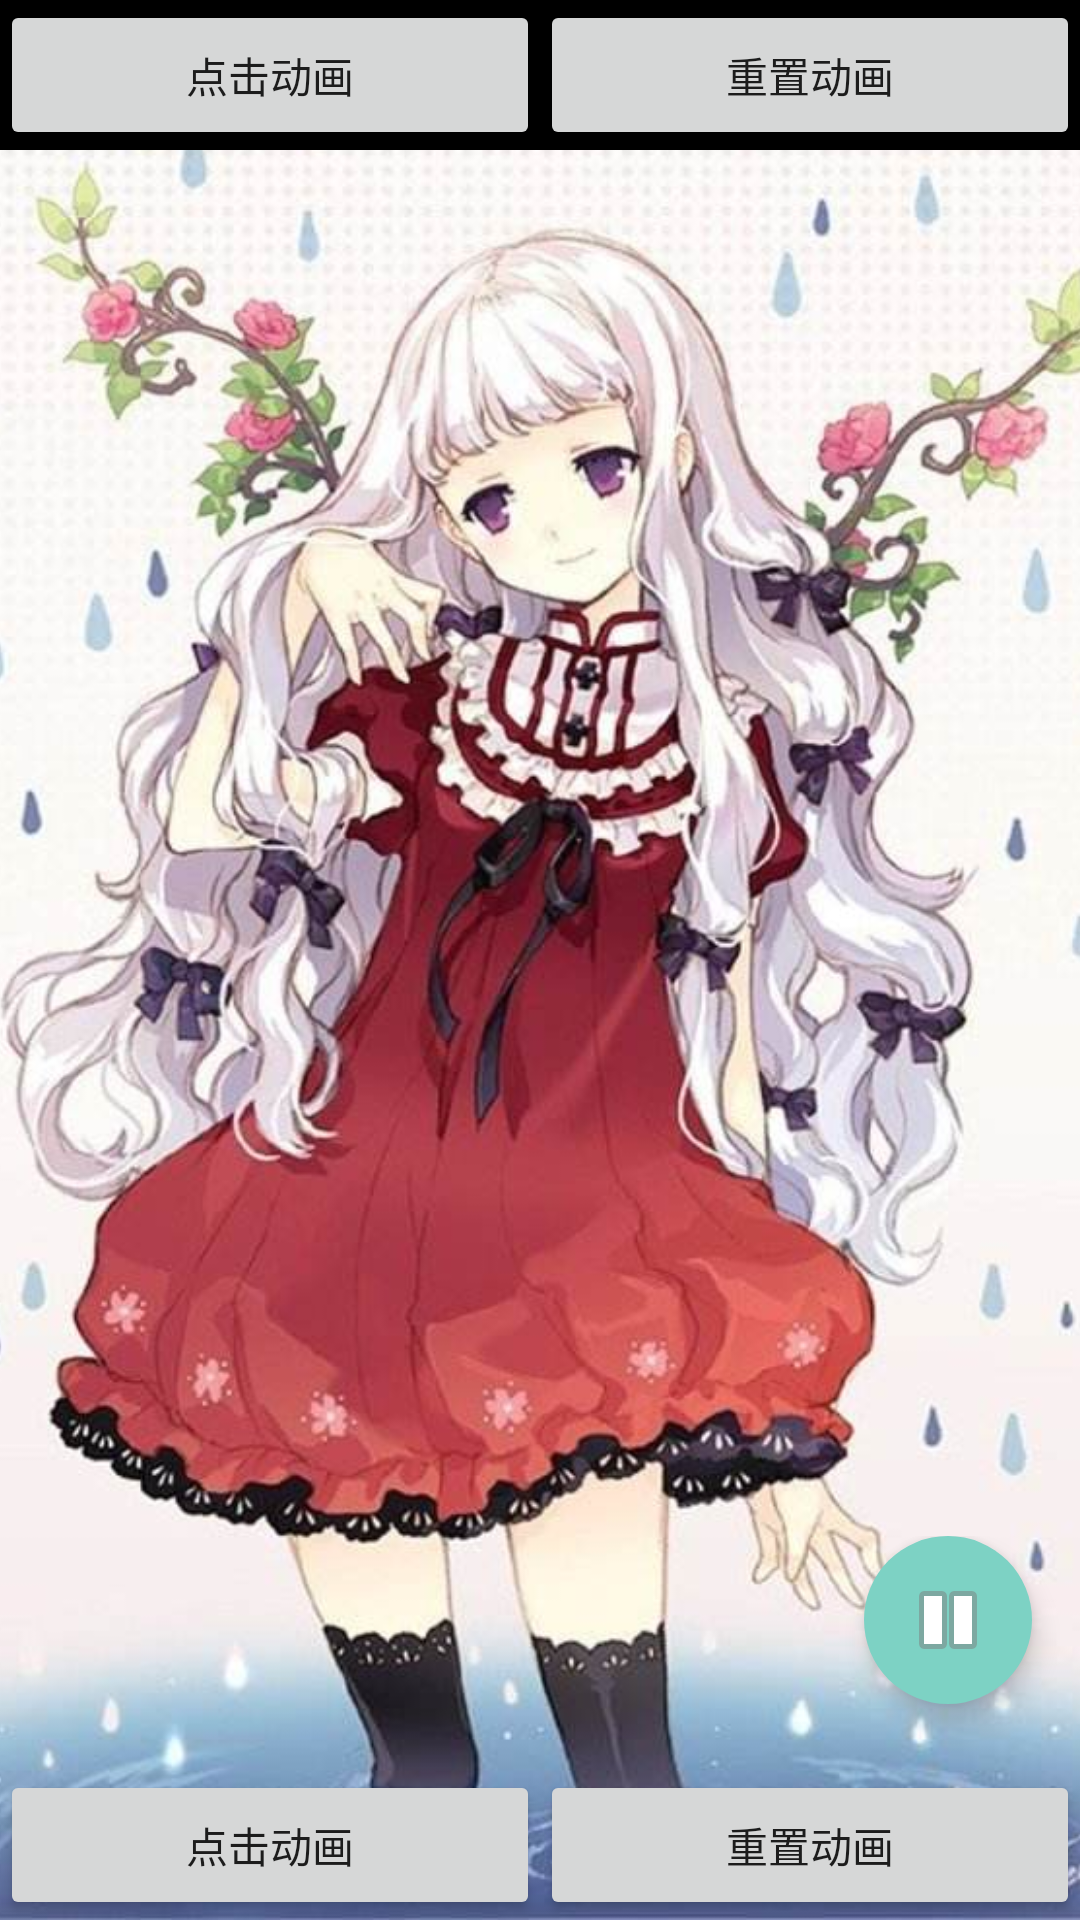

Icon click points for this 1080px x 1920px phone screenshot, format (x=x, y=y):
pause: (x=948, y=1620)
